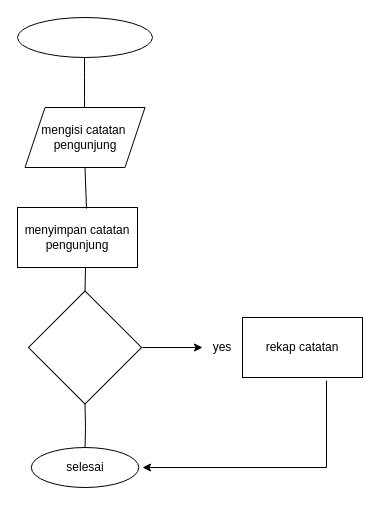
This 380x505 diagram has some shape labels left out. The shapes that lost their labels are listed below. From the top down, each one's centre as x and y in pixels, then its label:
point (84, 37): mulai
point (84, 347): anggota pustakawan
